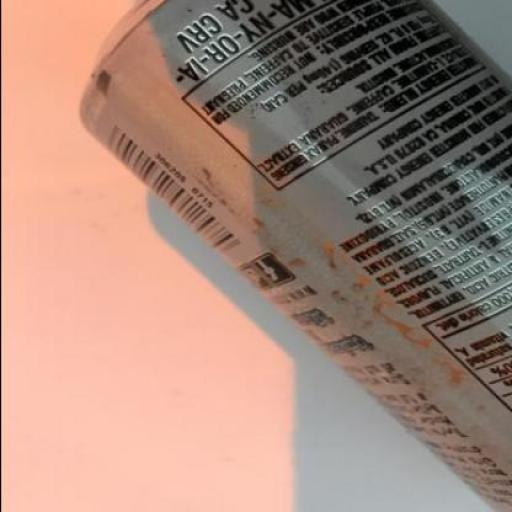metal: (74, 1, 511, 511)
